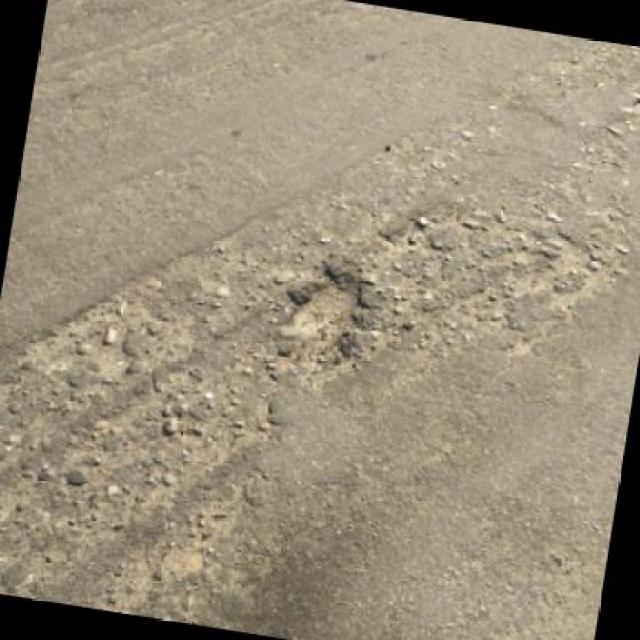pothole1: (269, 260, 371, 377), (378, 204, 444, 264)
